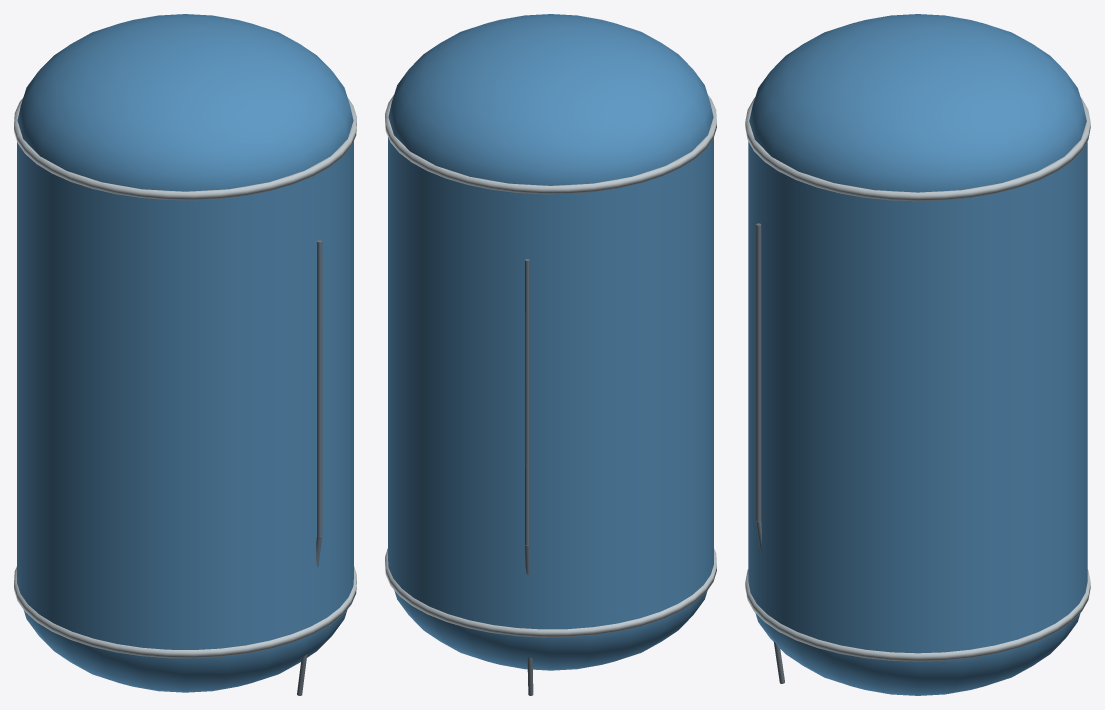
The model's file is falcon9_stage_2_lox_vessel.glb.
3 renders of one model, left to right at view 1: azimuth 30°, elevation 25°; view 2: azimuth 150°, elevation 25°; view 3: azimuth 270°, elevation 25°, orthographic. The views are drawn at different scales.
Visible parts, largest first — view 1: falcon9_stage_2_lox_vessel.mesh_Cutaway_liquid_oxygen, falcon9_stage_2_lox_vessel.mesh_Satin_aluminum, falcon9_stage_2_lox_vessel.mesh_Machined_steel; view 2: falcon9_stage_2_lox_vessel.mesh_Cutaway_liquid_oxygen, falcon9_stage_2_lox_vessel.mesh_Satin_aluminum, falcon9_stage_2_lox_vessel.mesh_Machined_steel; view 3: falcon9_stage_2_lox_vessel.mesh_Cutaway_liquid_oxygen, falcon9_stage_2_lox_vessel.mesh_Satin_aluminum, falcon9_stage_2_lox_vessel.mesh_Machined_steel.
Part boxes in pixels (<box>): falcon9_stage_2_lox_vessel.mesh_Cutaway_liquid_oxygen: <box>17,14,353,692</box>; falcon9_stage_2_lox_vessel.mesh_Satin_aluminum: <box>14,98,356,658</box>; falcon9_stage_2_lox_vessel.mesh_Machined_steel: <box>297,240,322,695</box>; falcon9_stage_2_lox_vessel.mesh_Cutaway_liquid_oxygen: <box>388,14,713,670</box>; falcon9_stage_2_lox_vessel.mesh_Satin_aluminum: <box>385,95,716,637</box>; falcon9_stage_2_lox_vessel.mesh_Machined_steel: <box>525,259,533,695</box>; falcon9_stage_2_lox_vessel.mesh_Cutaway_liquid_oxygen: <box>748,14,1087,695</box>; falcon9_stage_2_lox_vessel.mesh_Satin_aluminum: <box>745,98,1090,661</box>; falcon9_stage_2_lox_vessel.mesh_Machined_steel: <box>756,223,784,683</box>.
Bounding box in the file's own units: 3.48 × 7 × 3.48.
